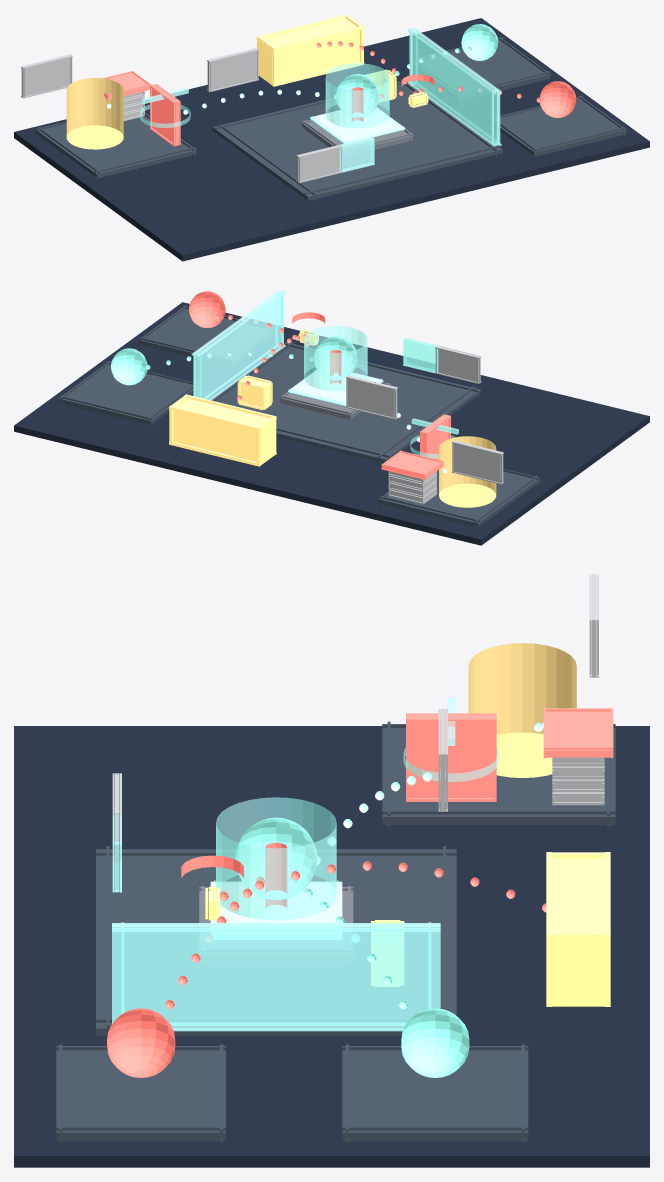
The model's file is cks-pod-security.glb.
3 renders of one model, top to bottom at view 1: azimuth 30°, elevation 25°; view 2: azimuth 150°, elevation 25°; view 3: azimuth 270°, elevation 25°, orthographic. The views are drawn at different scales.
Parts seen in each view (by area): view 1: cks-floor, ns-payments, secrets-vault, sim-netpol-wall, control-plane, ns-default, ns-frontend, kube-apiserver, sec-context, seccomp-filter, rbac-binding, audit-policy (+12 smaller); view 2: cks-floor, ns-payments, secrets-vault, sim-netpol-wall, ns-frontend, ns-default, sec-context, control-plane, kube-apiserver, audit-policy, rbac-binding, psa-label (+11 smaller); view 3: cks-floor, ns-payments, sim-netpol-wall, ns-frontend, ns-default, sec-context, kube-apiserver, secrets-vault, control-plane, sim-psa-reject, seccomp-filter, node-kernel (+10 smaller).
Boxes of the visible parts, x1=… form: cks-floor: x1=14, y1=18, x2=649, y2=261; ns-payments: x1=212, y1=79, x2=502, y2=200; secrets-vault: x1=256, y1=14, x2=364, y2=86; sim-netpol-wall: x1=408, y1=27, x2=501, y2=146; control-plane: x1=35, y1=112, x2=196, y2=179; ns-default: x1=489, y1=95, x2=626, y2=156; ns-frontend: x1=409, y1=37, x2=550, y2=100; kube-apiserver: x1=66, y1=78, x2=123, y2=149; sec-context: x1=325, y1=63, x2=389, y2=128; seccomp-filter: x1=310, y1=107, x2=405, y2=143; rbac-binding: x1=207, y1=48, x2=258, y2=92; audit-policy: x1=21, y1=54, x2=72, y2=98; cks-floor: x1=14, y1=302, x2=649, y2=545; ns-payments: x1=208, y1=342, x2=480, y2=463; secrets-vault: x1=169, y1=394, x2=276, y2=466; sim-netpol-wall: x1=191, y1=290, x2=285, y2=400; ns-frontend: x1=58, y1=361, x2=198, y2=425; ns-default: x1=138, y1=305, x2=274, y2=366; sec-context: x1=304, y1=326, x2=367, y2=390; control-plane: x1=378, y1=469, x2=540, y2=528; kube-apiserver: x1=439, y1=436, x2=496, y2=507; audit-policy: x1=451, y1=440, x2=503, y2=484; rbac-binding: x1=345, y1=375, x2=397, y2=419; psa-label: x1=435, y1=345, x2=481, y2=383; cks-floor: x1=14, y1=726, x2=649, y2=1167; ns-payments: x1=96, y1=846, x2=456, y2=1038; sim-netpol-wall: x1=112, y1=922, x2=440, y2=1031; ns-frontend: x1=342, y1=1044, x2=528, y2=1142; ns-default: x1=56, y1=1044, x2=225, y2=1142; sec-context: x1=216, y1=797, x2=336, y2=920; kube-apiserver: x1=468, y1=643, x2=576, y2=777; secrets-vault: x1=546, y1=852, x2=610, y2=1006; control-plane: x1=382, y1=721, x2=615, y2=826; sim-psa-reject: x1=406, y1=713, x2=496, y2=801; seccomp-filter: x1=210, y1=880, x2=342, y2=939; node-kernel: x1=199, y1=886, x2=353, y2=963.
Size of what is drawn, in the model's own units: 6.49 by 1.09 by 4.
